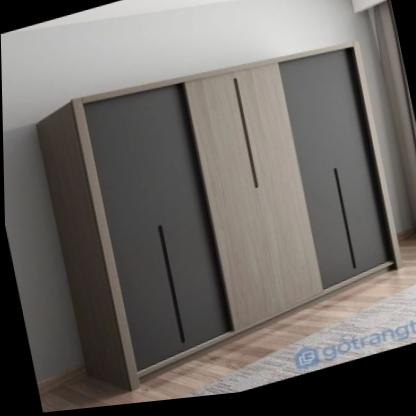Closet: (35, 53, 397, 393)
Wooden floor: (36, 243, 416, 413)
